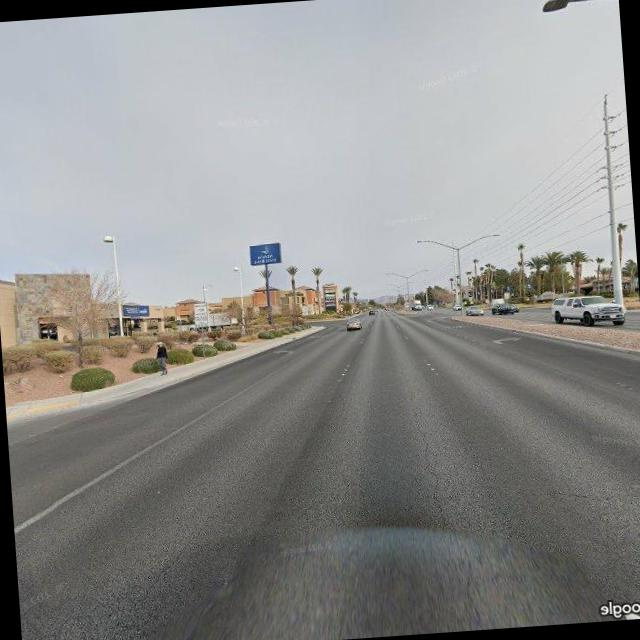pothole: (414, 414, 451, 528)
